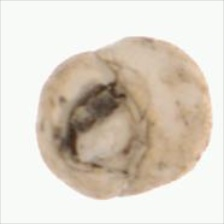L3: (65, 79, 147, 177)
L4: (36, 34, 213, 200)
